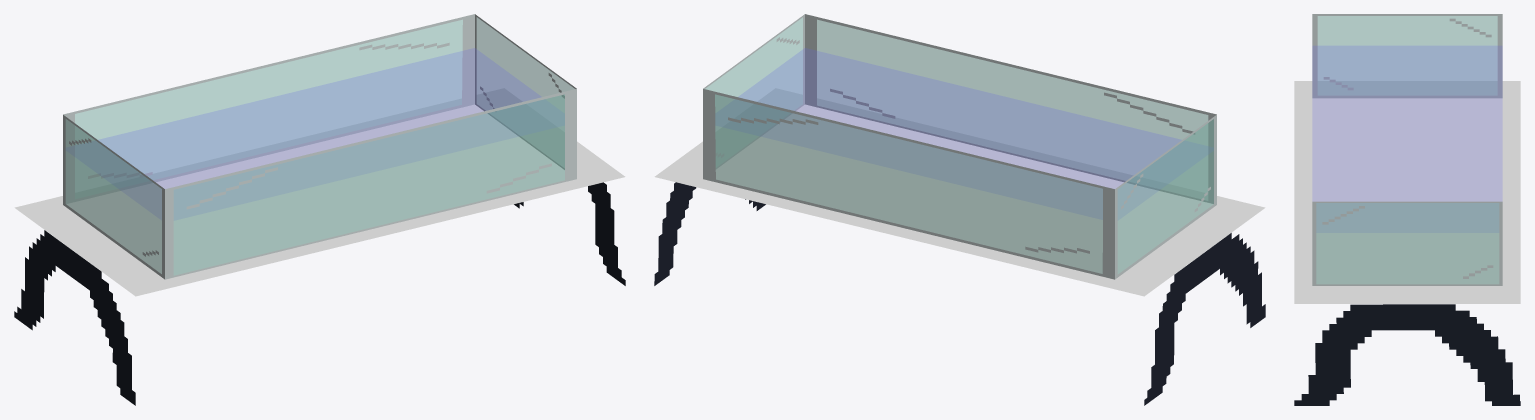
File: aquariumtable.glb
3 renders of one model, left to right at view 1: azimuth 30°, elevation 25°; view 2: azimuth 150°, elevation 25°; view 3: azimuth 270°, elevation 25°, orthographic. The views are drawn at different scales.
Parts seen in each view (by area): view 1: Cube.001, Cube; view 2: Cube.001, Cube; view 3: Cube, Cube.001.
Boxes of the visible parts, bbox=[...] form: Cube.001: bbox=[63, 14, 576, 279]; Cube: bbox=[14, 88, 625, 405]; Cube.001: bbox=[703, 14, 1216, 279]; Cube: bbox=[654, 88, 1265, 405]; Cube: bbox=[1294, 81, 1520, 405]; Cube.001: bbox=[1312, 14, 1502, 285].
Size of the model in its own units: 8.64 by 3.37 by 3.71.
4 materials, 2 textured.
